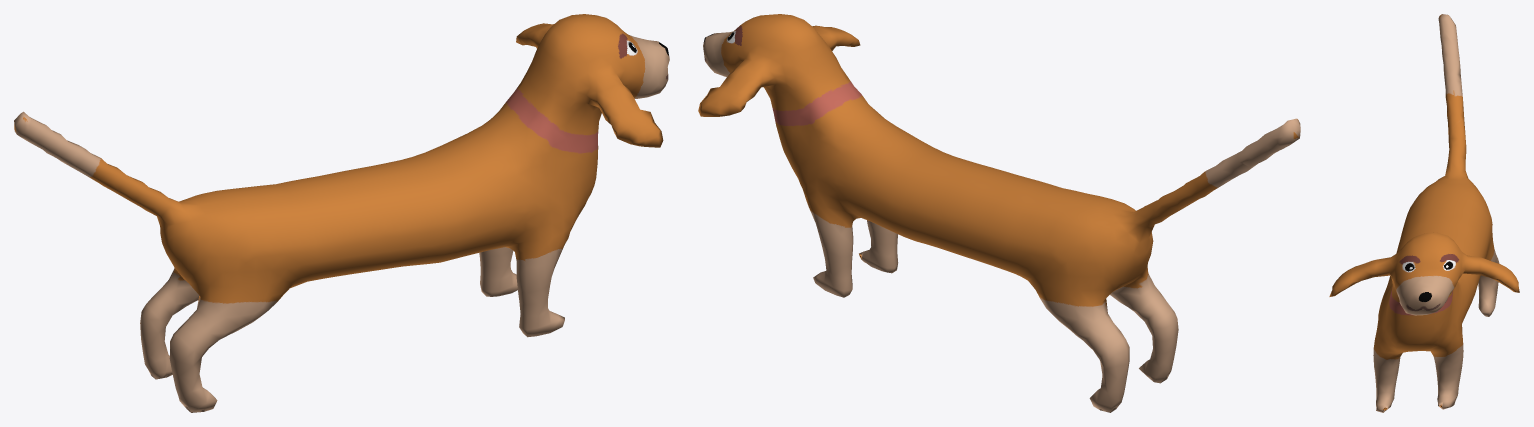
The model's file is dog_aug_1.obj.
3 views of the same model, side by side, from view 1: azimuth 30°, elevation 25°; view 2: azimuth 150°, elevation 25°; view 3: azimuth 270°, elevation 25° (orthographic). The views are drawn at different scales.
Size of the model in its own units: 102 by 49.46 by 35.8.
1 material, 1 textured.
